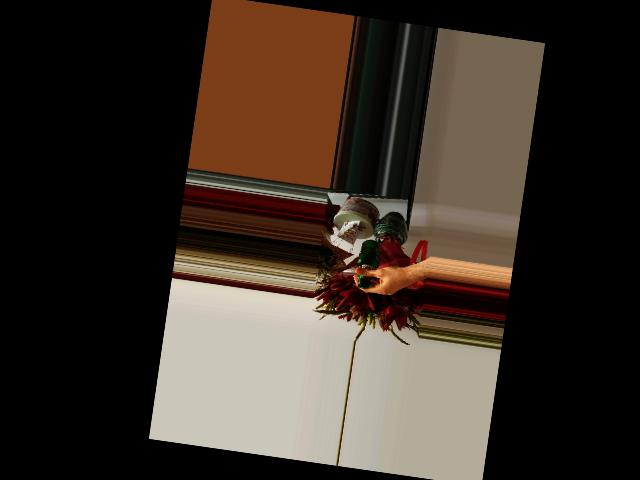beer: (353, 237, 382, 289)
